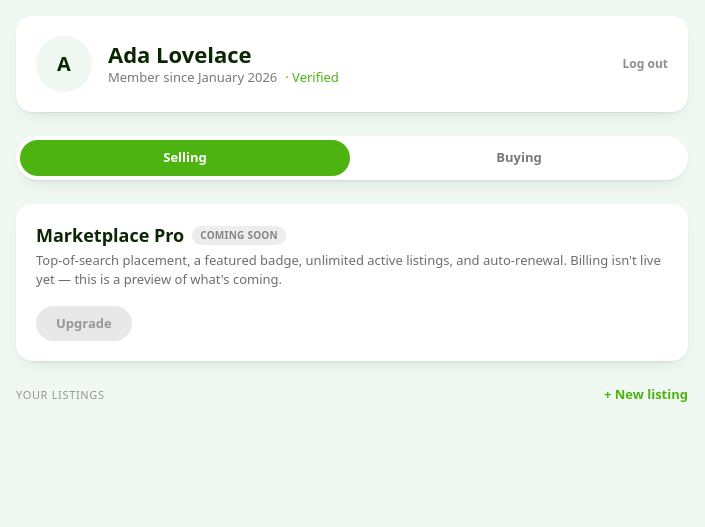
Test: ProfilePage › switches to the Buying tab and shows an empty state with nothing saved
What coordinates should you click on to do the following:
click the button "buying"
I would click on:
 (519, 158)
Its box is [354,140,684,176].
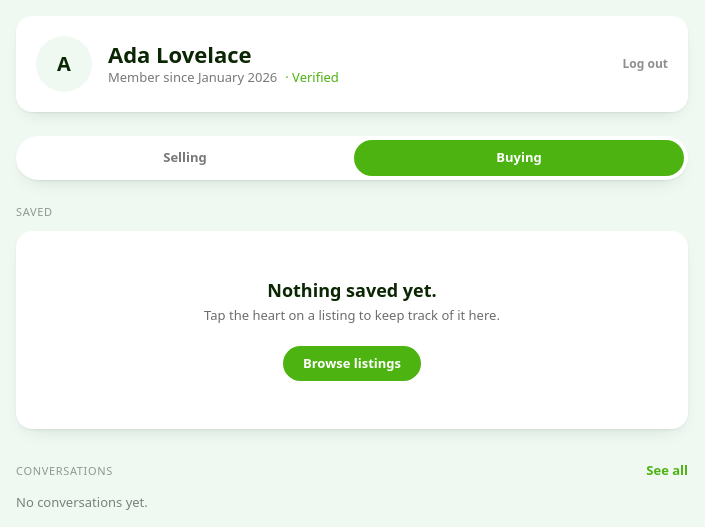
Check: the text "Nothing saved yet." is shown, box [267,278,437,302]
